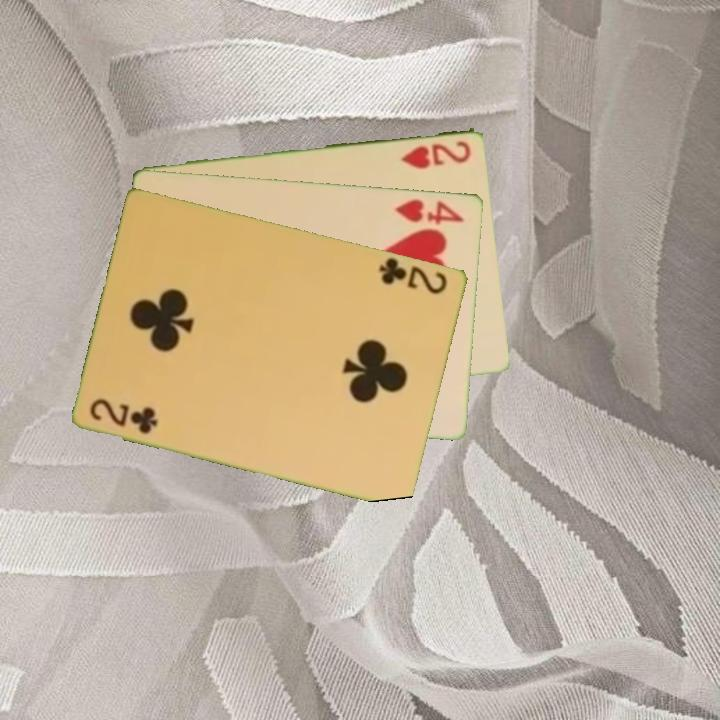2c: (375, 254, 451, 297), (87, 394, 161, 437)
2h: (397, 136, 474, 171)
4h: (392, 195, 468, 227)
